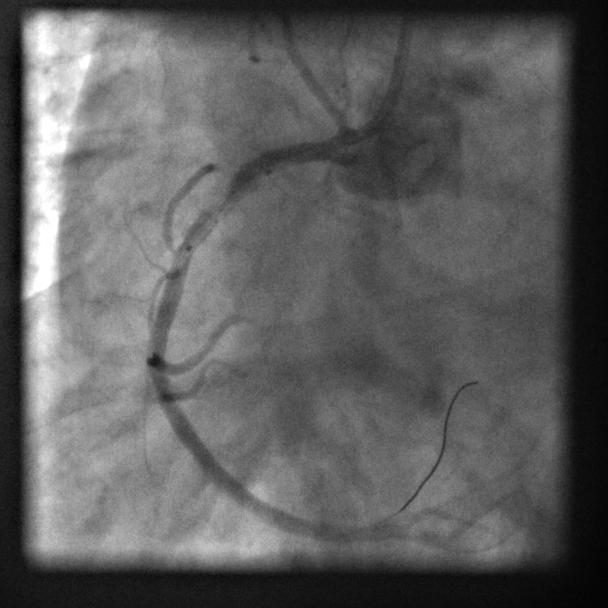Stenosis: (201, 176, 236, 232)
